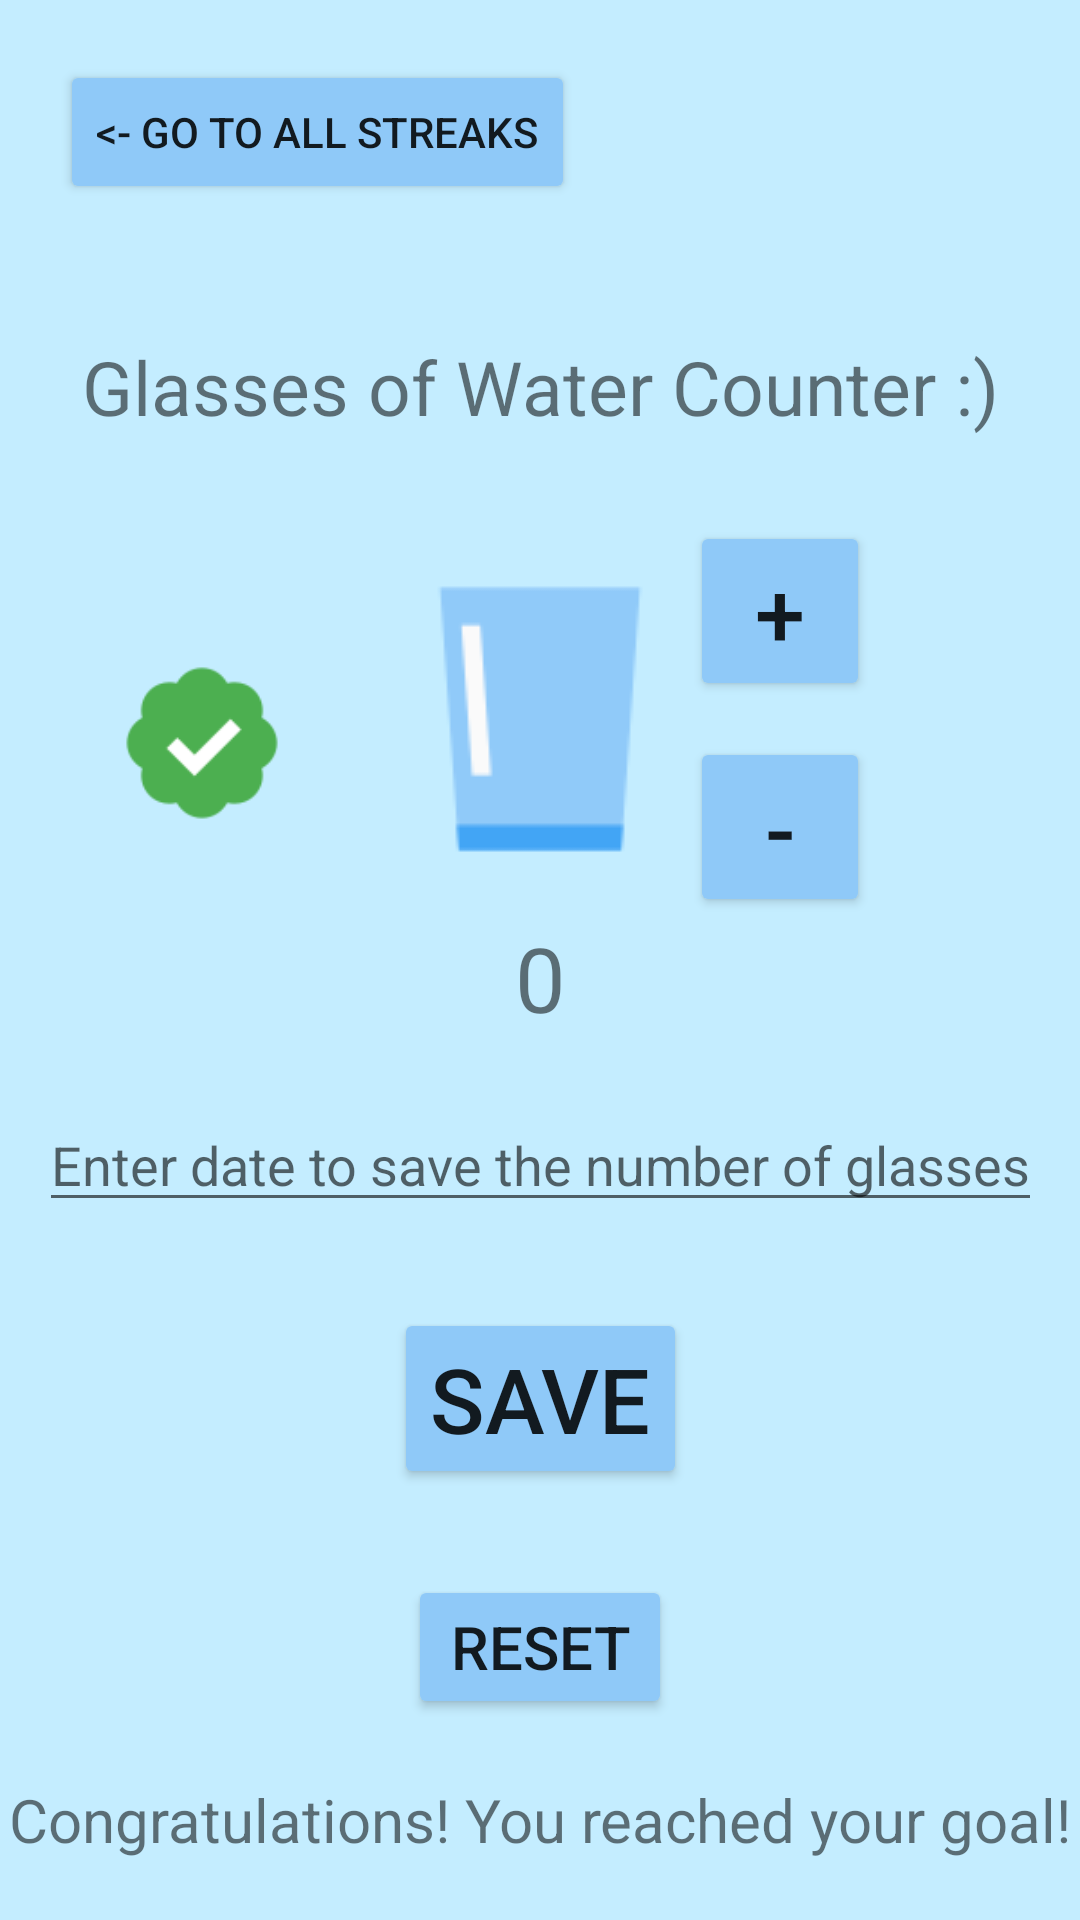

Screen size 1080×1920. Icon name, then its box in pixels as (x1, y1, x2, y2):
tick goal reached: (126, 667, 278, 819)
water glass: (440, 587, 640, 852)
